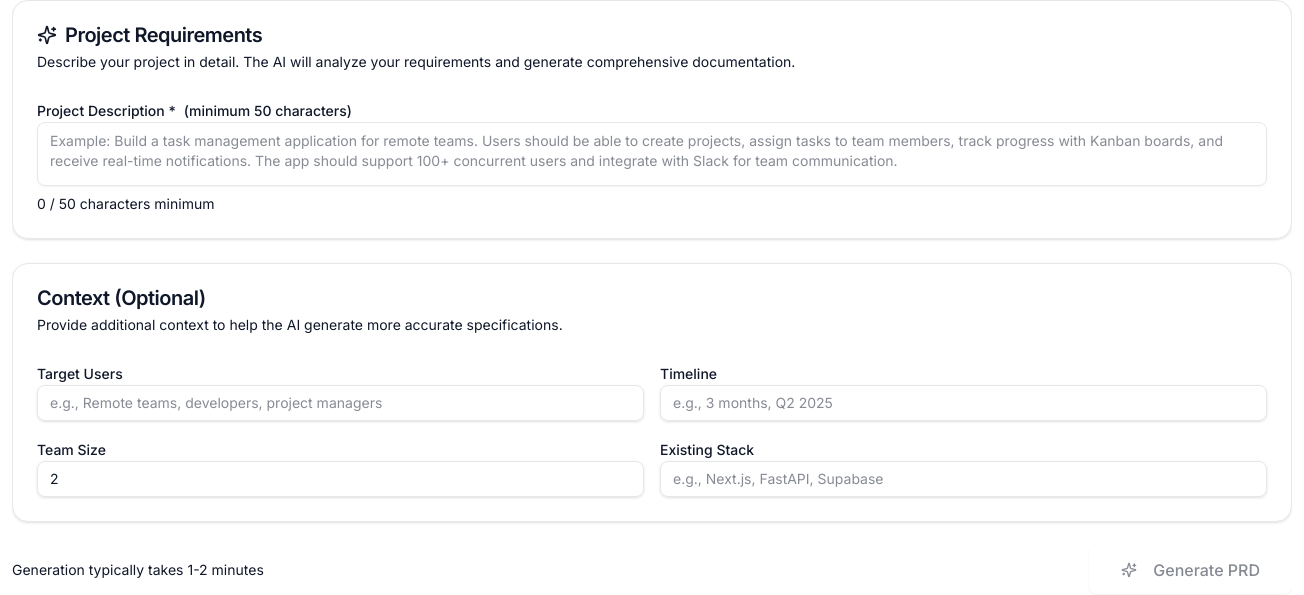
Test: PRDGeneratorForm › should show character count
Replace the text in the text box labelled "Project Description *(minimum 50 characters)" with "Test requirements text": (652, 154) [37,122,1267,186]
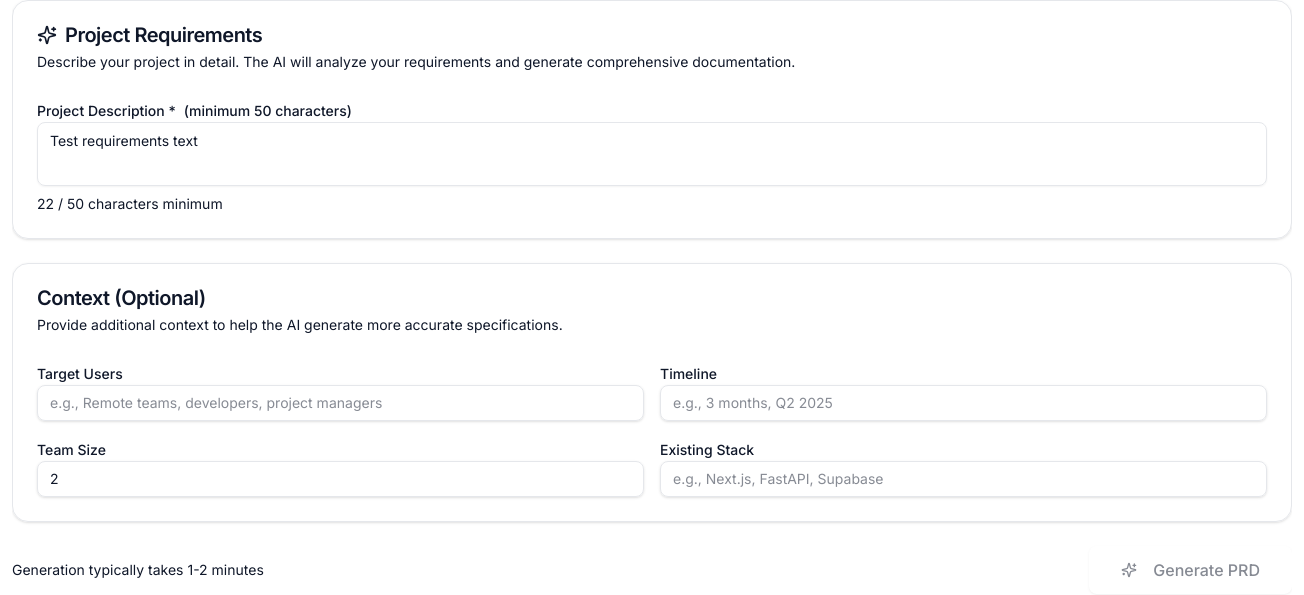
Expected: the text "22 / 50 characters minimum" is shown, [37,195,223,212]
